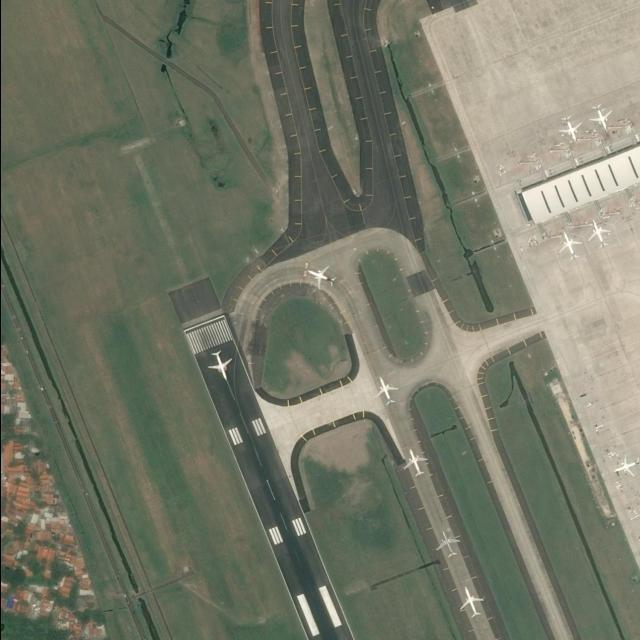Aircraft: (373, 372, 401, 411), (457, 583, 482, 619), (458, 587, 483, 621), (205, 351, 233, 381), (206, 349, 232, 381), (585, 215, 607, 251), (435, 528, 459, 561), (400, 449, 426, 479), (305, 266, 335, 291), (372, 377, 397, 407), (556, 229, 578, 263), (557, 231, 581, 262), (402, 451, 426, 481), (586, 219, 610, 249), (589, 102, 611, 134), (434, 532, 459, 560), (557, 117, 581, 145), (557, 116, 581, 144), (588, 104, 612, 132), (612, 455, 640, 479), (304, 266, 334, 287), (612, 452, 636, 478)
